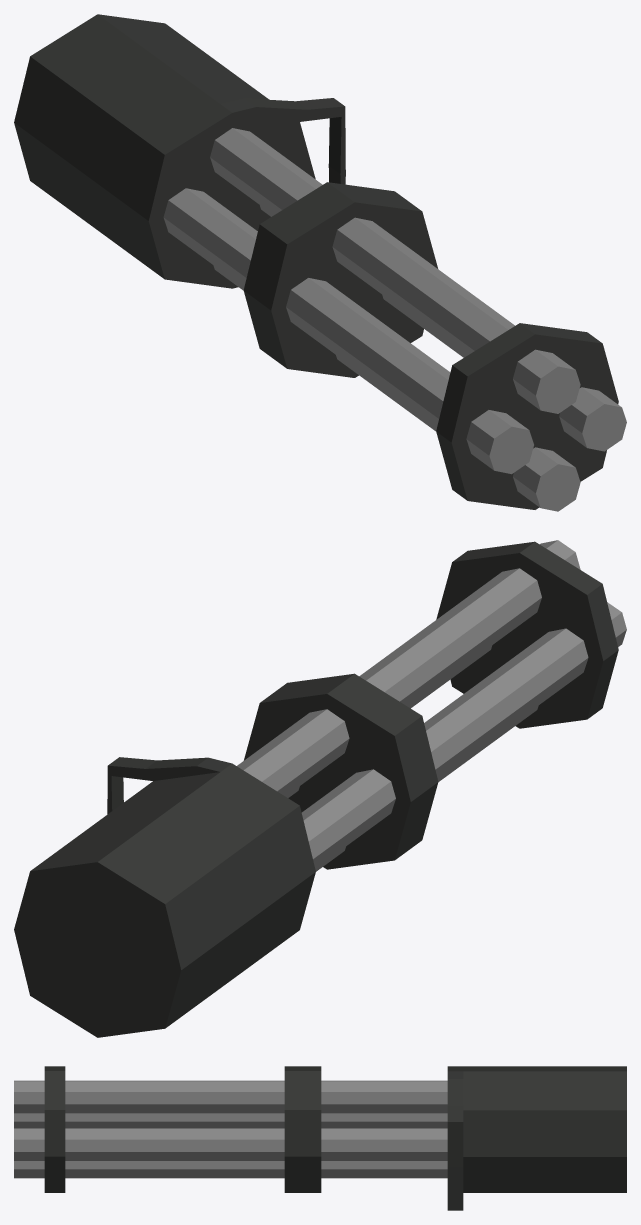
File: MiniGun.fbx
The picture shows the model from 3 angles, top to bottom: view 1: azimuth 30°, elevation 25°; view 2: azimuth 150°, elevation 25°; view 3: azimuth 270°, elevation 25°; orthographic projection. The views are drawn at different scales.
Visible parts, largest first — view 1: pCube21; view 2: pCube21; view 3: pCube21.
Boxes of the visible parts, <box> form: pCube21: <box>14,14,626,511</box>; pCube21: <box>14,540,626,1037</box>; pCube21: <box>14,1066,626,1210</box>.
Bounding box in the file's own units: 95.92 × 81.83 × 388.
1 material, 1 textured.
